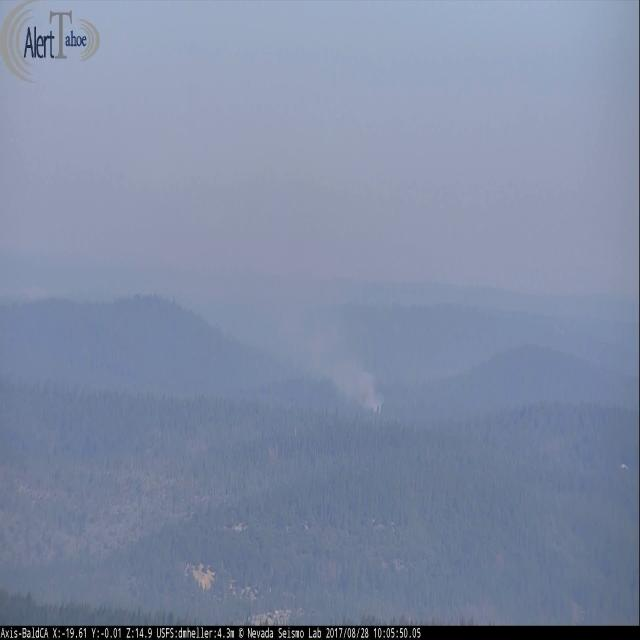smoke: (313, 333, 382, 411)
